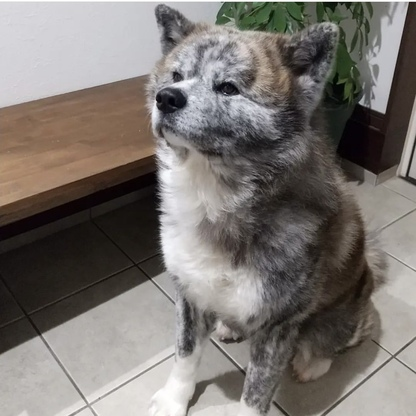akita: (136, 1, 399, 416)
